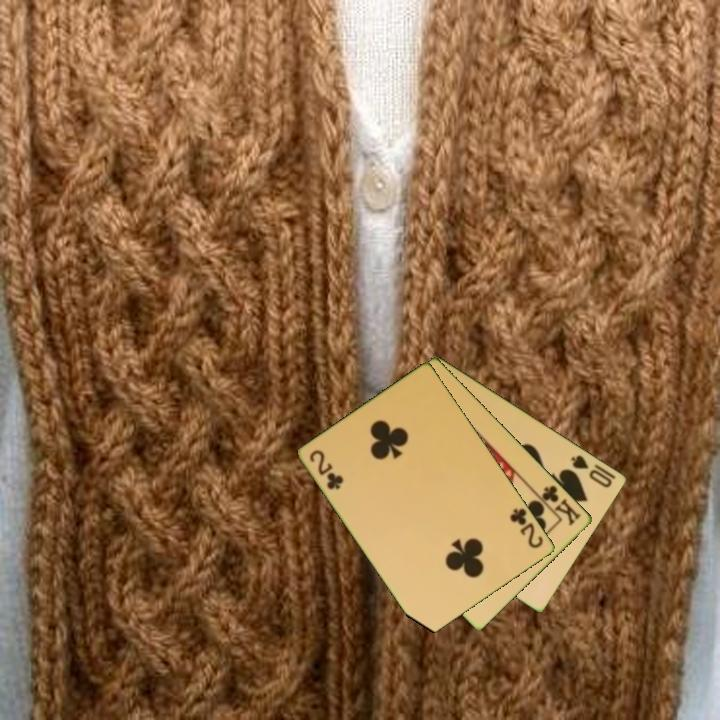10s: (568, 451, 615, 491)
2c: (506, 504, 546, 551), (306, 446, 346, 493)
Kc: (533, 481, 584, 529)
